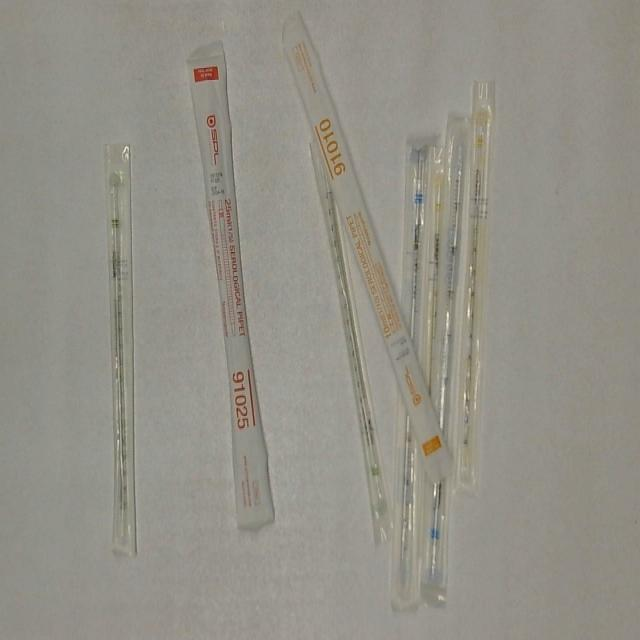Serelogical Pipet 1 mL - Sealed: (454, 78, 500, 498), (421, 138, 449, 390)
Serelogical Pipet 10 mL - Sealed: (280, 9, 454, 484)
Serelogical Pipet 2 mL - Sealed: (309, 134, 397, 547), (102, 135, 144, 564)
Serelogical Pipet 25 mL - Sealed: (182, 40, 277, 532)
Serelogical Pipet 5 mL - Sealed: (420, 115, 475, 589), (388, 133, 436, 613)
